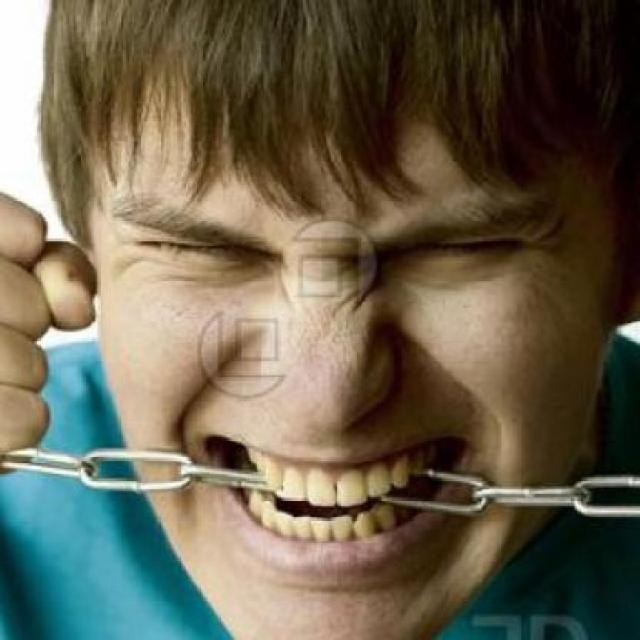drowsy: (133, 228, 265, 282), (398, 231, 520, 271)
